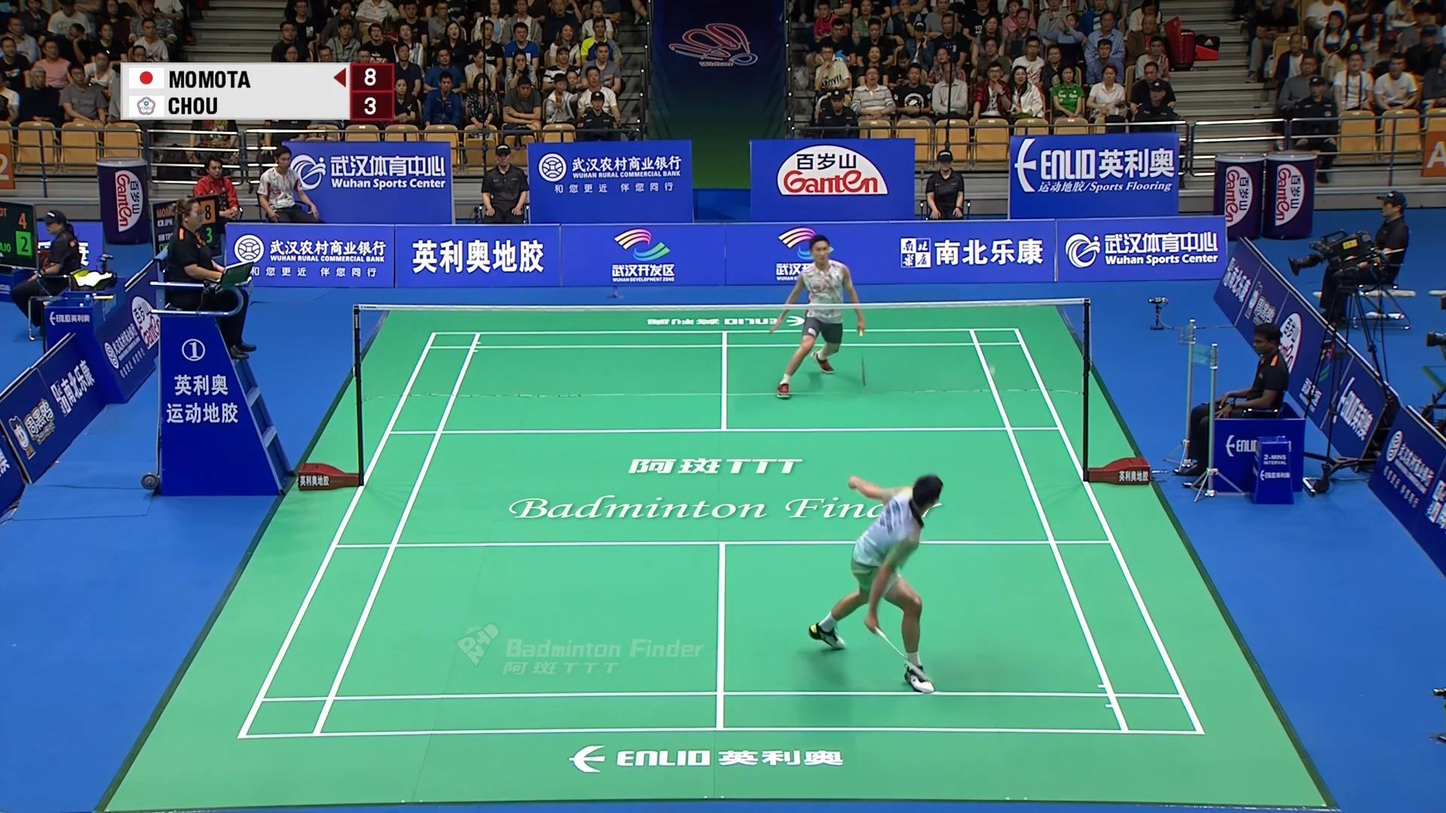player: (808, 475, 942, 693), (770, 232, 865, 399)
shuttlecock: (988, 363, 997, 378)
